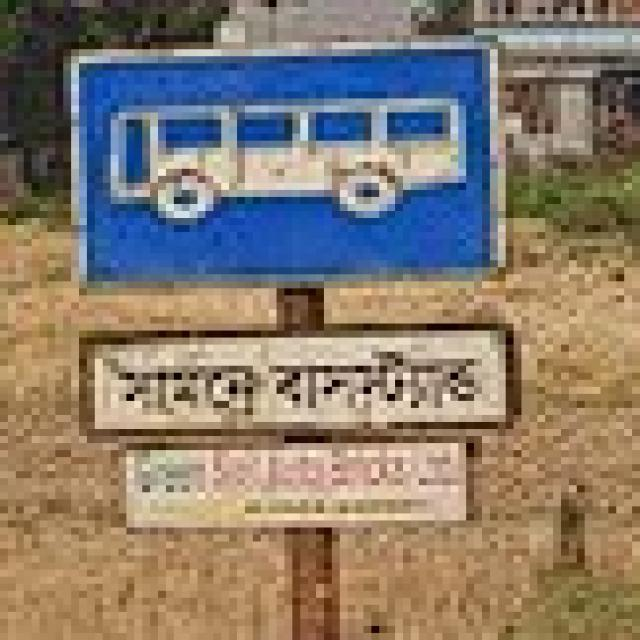Ahead-the-bus-station: (61, 29, 533, 538)
